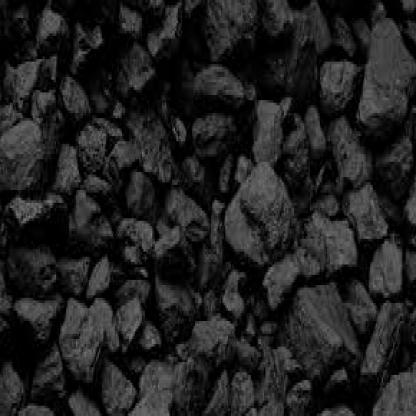Sedimentary_coal: (292, 267, 366, 380), (228, 154, 301, 259), (357, 15, 415, 124), (195, 5, 298, 64), (307, 206, 363, 283), (132, 110, 192, 180), (63, 298, 118, 367), (4, 298, 73, 349), (1, 110, 42, 192), (248, 92, 290, 167), (112, 290, 161, 354), (68, 185, 121, 241), (352, 170, 390, 242), (146, 5, 194, 62), (314, 49, 360, 108), (192, 308, 238, 365), (192, 67, 250, 105), (26, 8, 69, 59), (367, 241, 402, 303), (168, 185, 211, 234), (373, 364, 415, 414), (124, 382, 183, 414), (79, 116, 106, 172), (121, 216, 154, 256), (314, 398, 369, 413), (14, 398, 60, 413)
